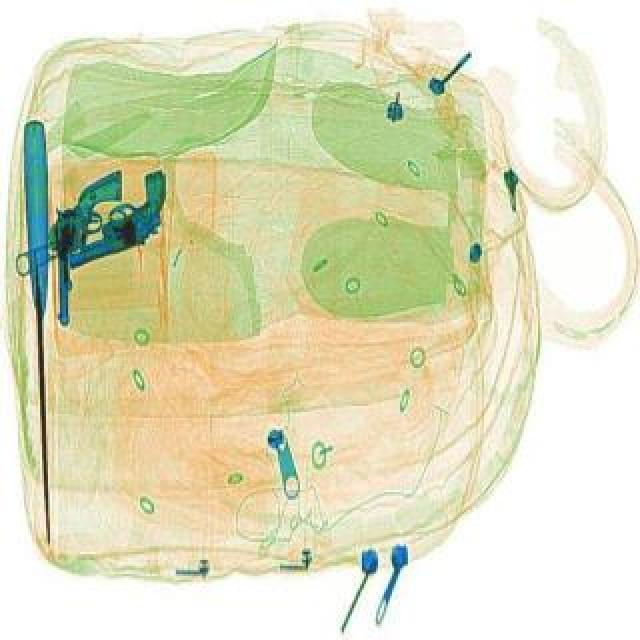gun: (42, 172, 186, 276), (40, 174, 132, 330)
knife: (20, 126, 60, 546)
